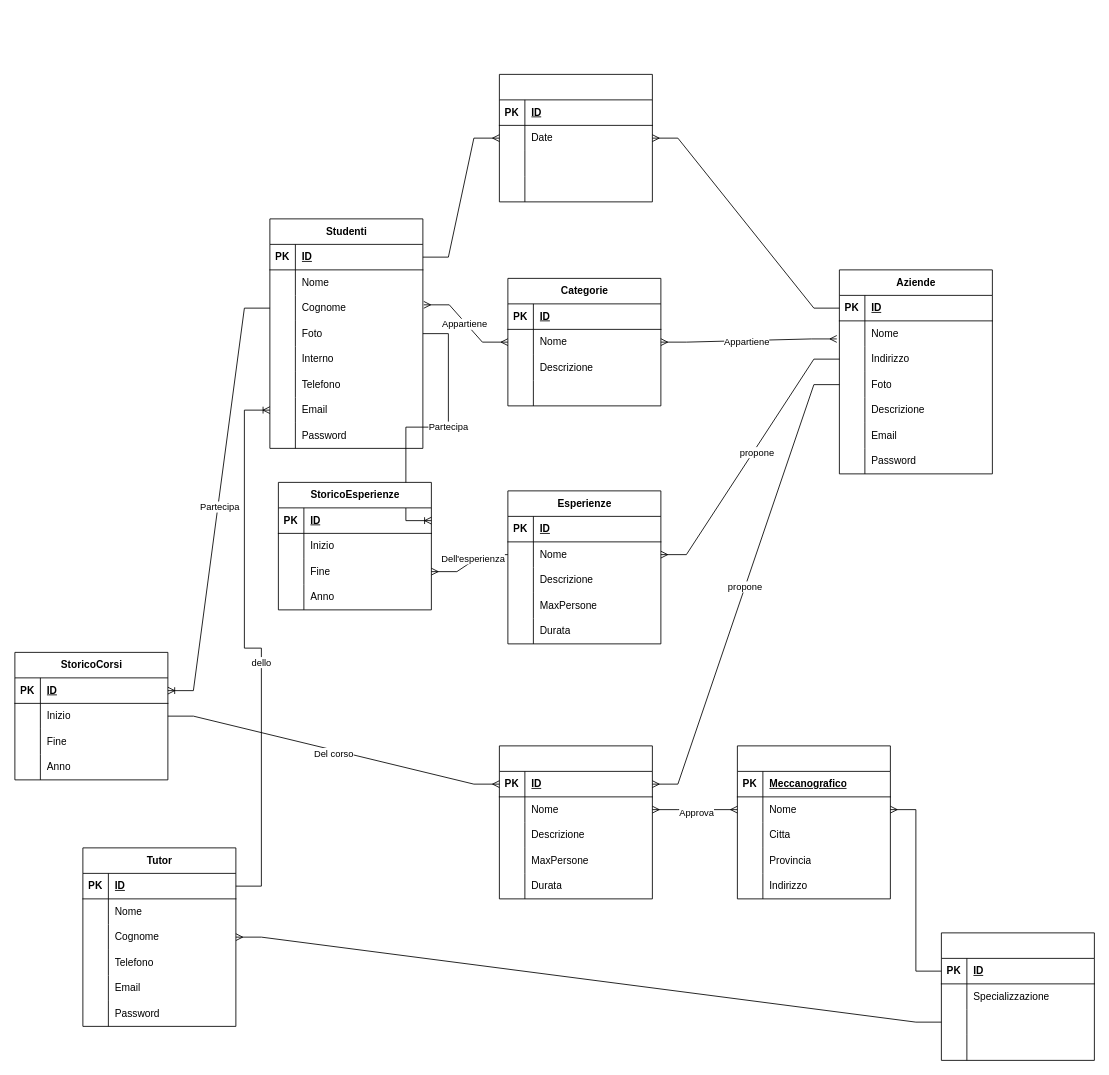
Image size: 1109x1075. Some labels were removed from this diagram. The box of each missing label's shape, as (x1, y1, x2, y2) in pixels:
Corsi: (499, 745, 652, 899)
Follow: (499, 74, 652, 202)
Insegna a: (941, 932, 1094, 1060)
Scuola: (737, 745, 890, 899)
